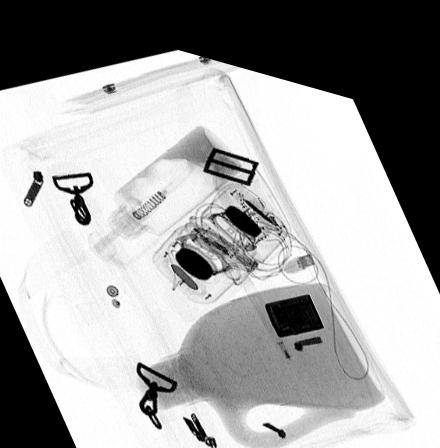Lighter: (263, 275, 324, 321)
